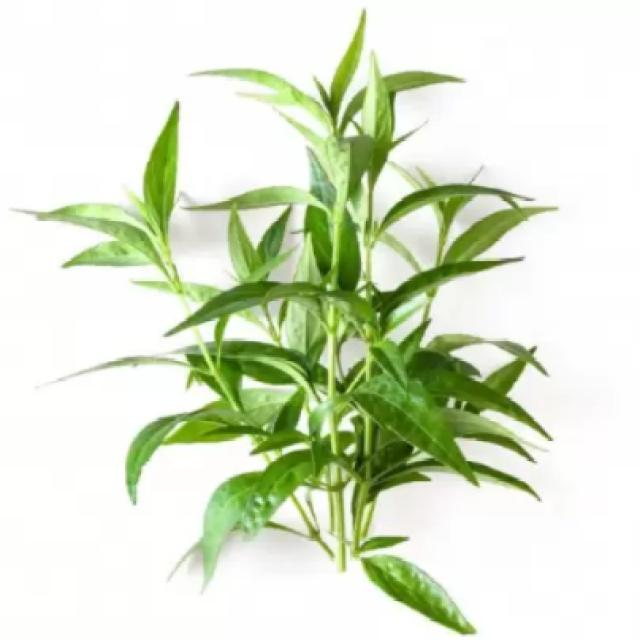Chirata: (93, 61, 640, 638), (156, 118, 538, 601)
